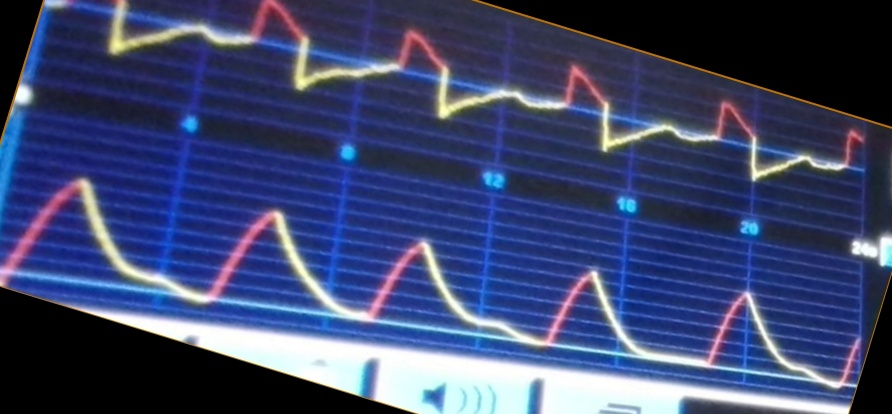Ineffective_effort Flow: (103, 3, 861, 184)
Ineffective_effort Volume: (2, 179, 858, 390)
